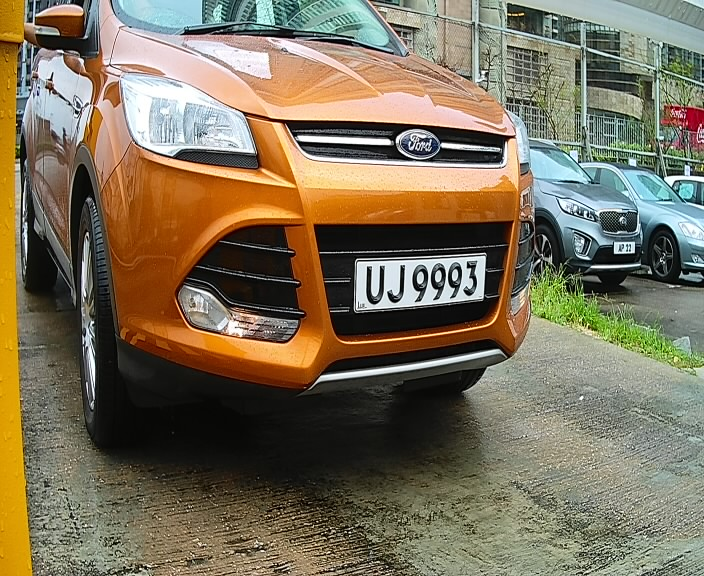Car: (23, 7, 563, 468)
License Plate: (351, 251, 489, 323)
